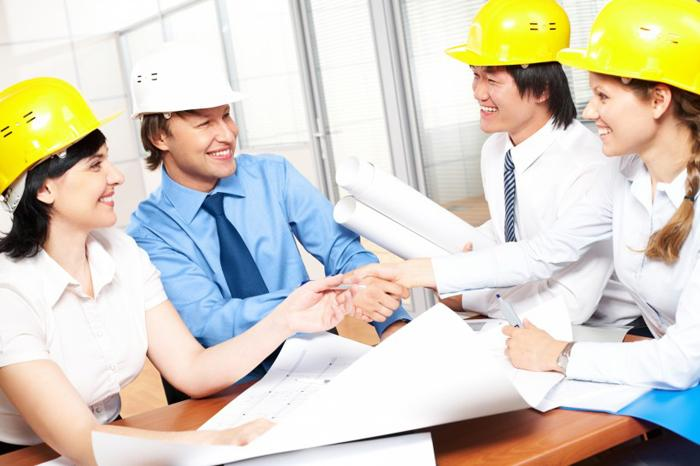helmet: (559, 1, 700, 86), (2, 75, 120, 171), (130, 43, 248, 112), (446, 1, 556, 68)
